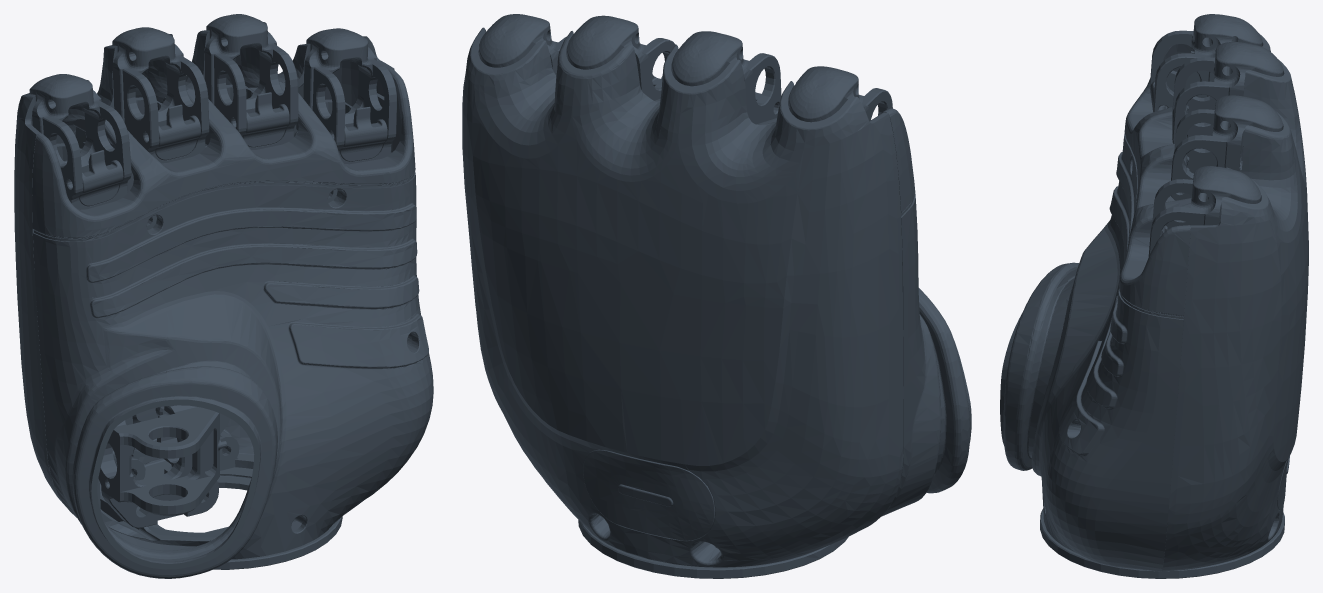
The model's file is hand_base_link.glb.
3 renders of one model, left to right at view 1: azimuth 30°, elevation 25°; view 2: azimuth 150°, elevation 25°; view 3: azimuth 270°, elevation 25°, orthographic. The views are drawn at different scales.
Parts seen in each view (by area): view 1: left_hand_base; view 2: left_hand_base; view 3: left_hand_base.
Part boxes in pixels (<box>): left_hand_base: <box>14,14,433,578</box>; left_hand_base: <box>462,14,971,578</box>; left_hand_base: <box>1000,14,1308,578</box>.
Bounding box in the file's own units: 0.0884 × 0.1049 × 0.063.
